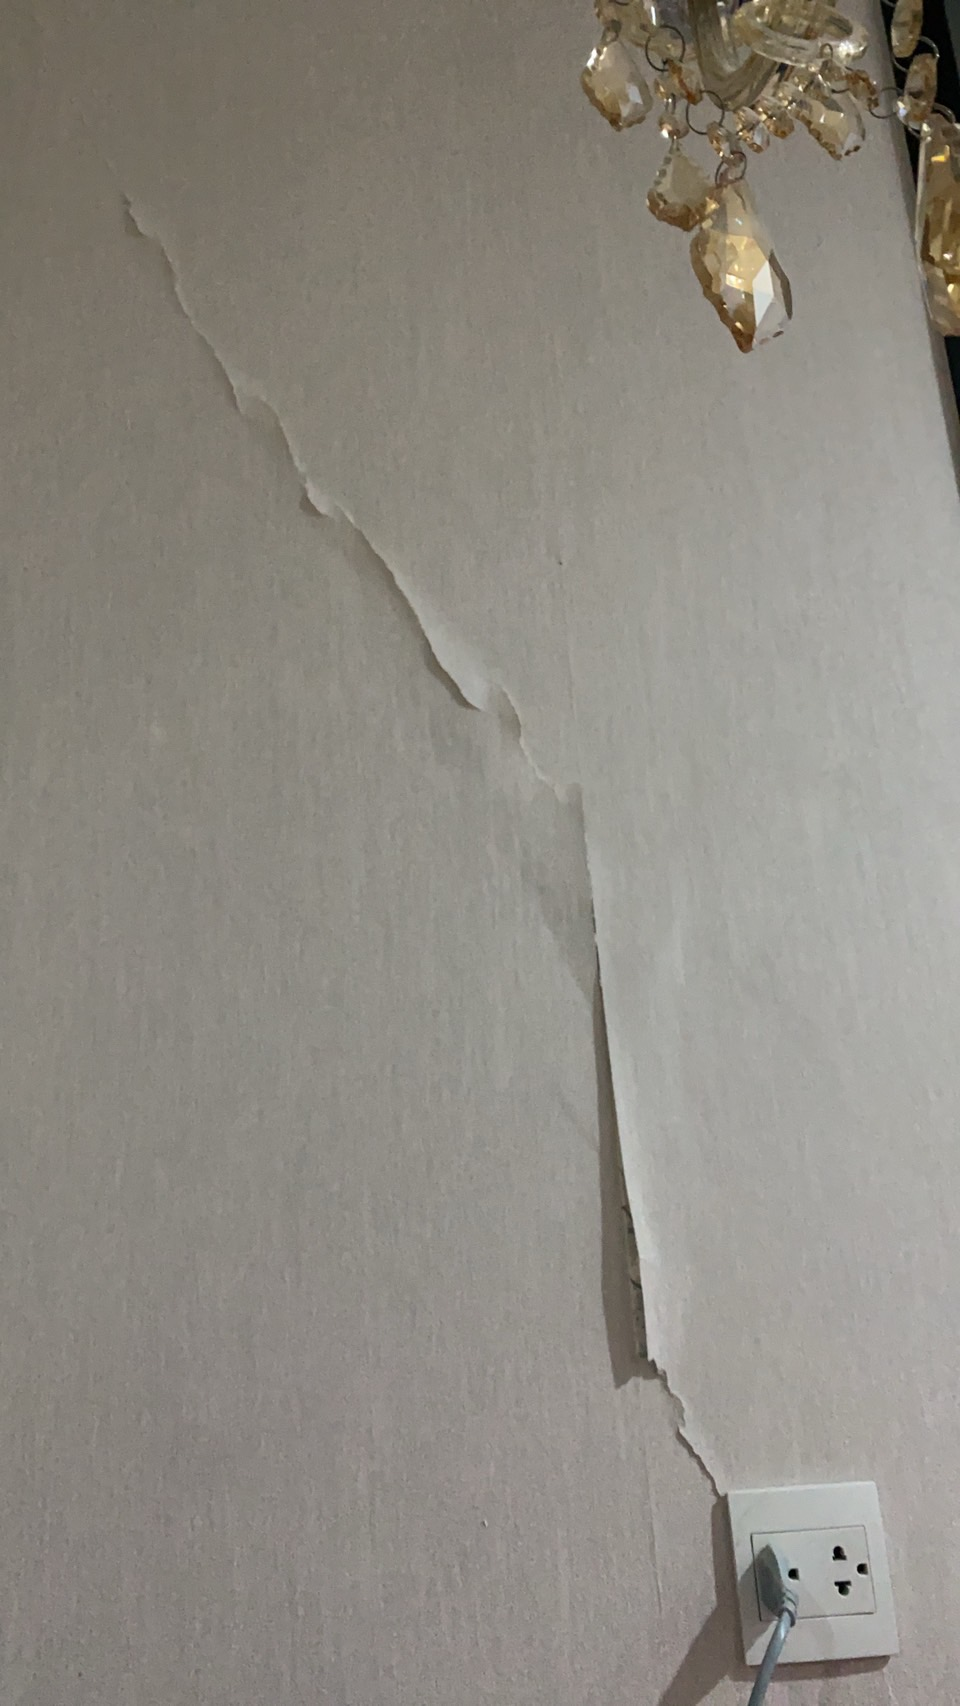Low: (120, 187, 723, 1401)
